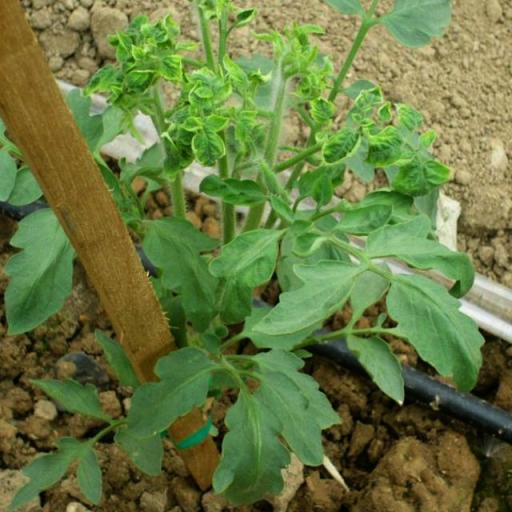disease_tomato: (84, 10, 262, 165), (390, 152, 452, 198), (178, 113, 230, 167), (364, 124, 404, 169), (321, 124, 363, 166), (81, 64, 117, 98), (222, 51, 250, 91), (394, 100, 424, 132), (354, 83, 384, 112), (308, 96, 335, 126), (157, 54, 184, 82), (418, 128, 436, 149), (378, 102, 390, 122)
